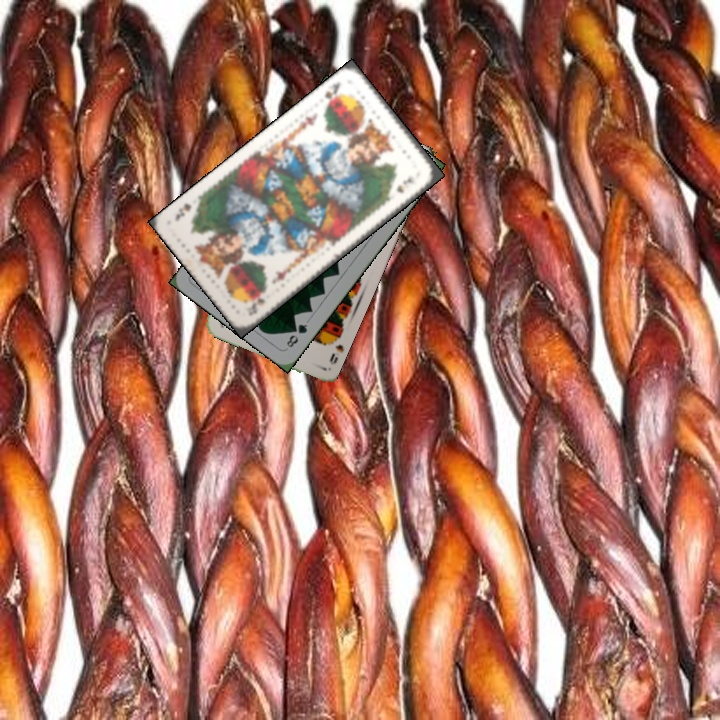G8: (282, 320, 310, 350)
S9: (325, 330, 346, 367)
SK: (320, 77, 343, 109), (243, 291, 268, 318)
